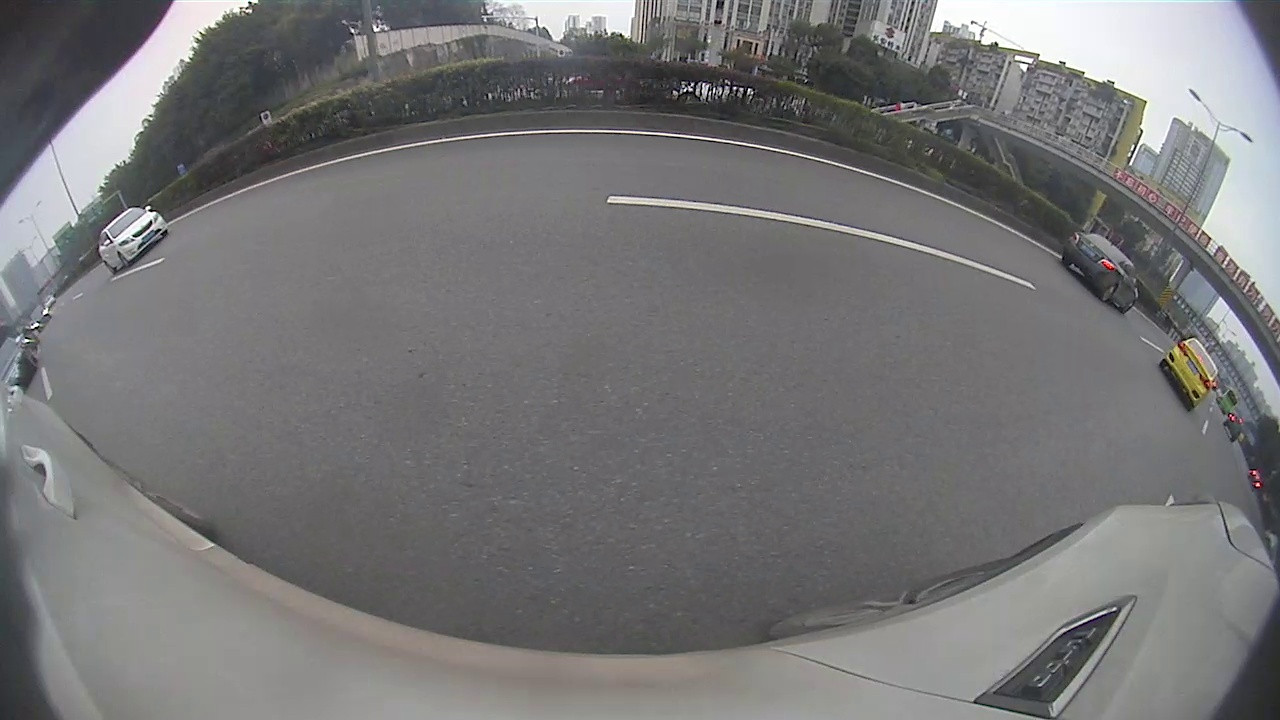car: (1060, 230, 1140, 317), (95, 203, 171, 277), (1156, 328, 1222, 413)
front: (117, 252, 133, 270)
rear: (1098, 283, 1116, 306)
